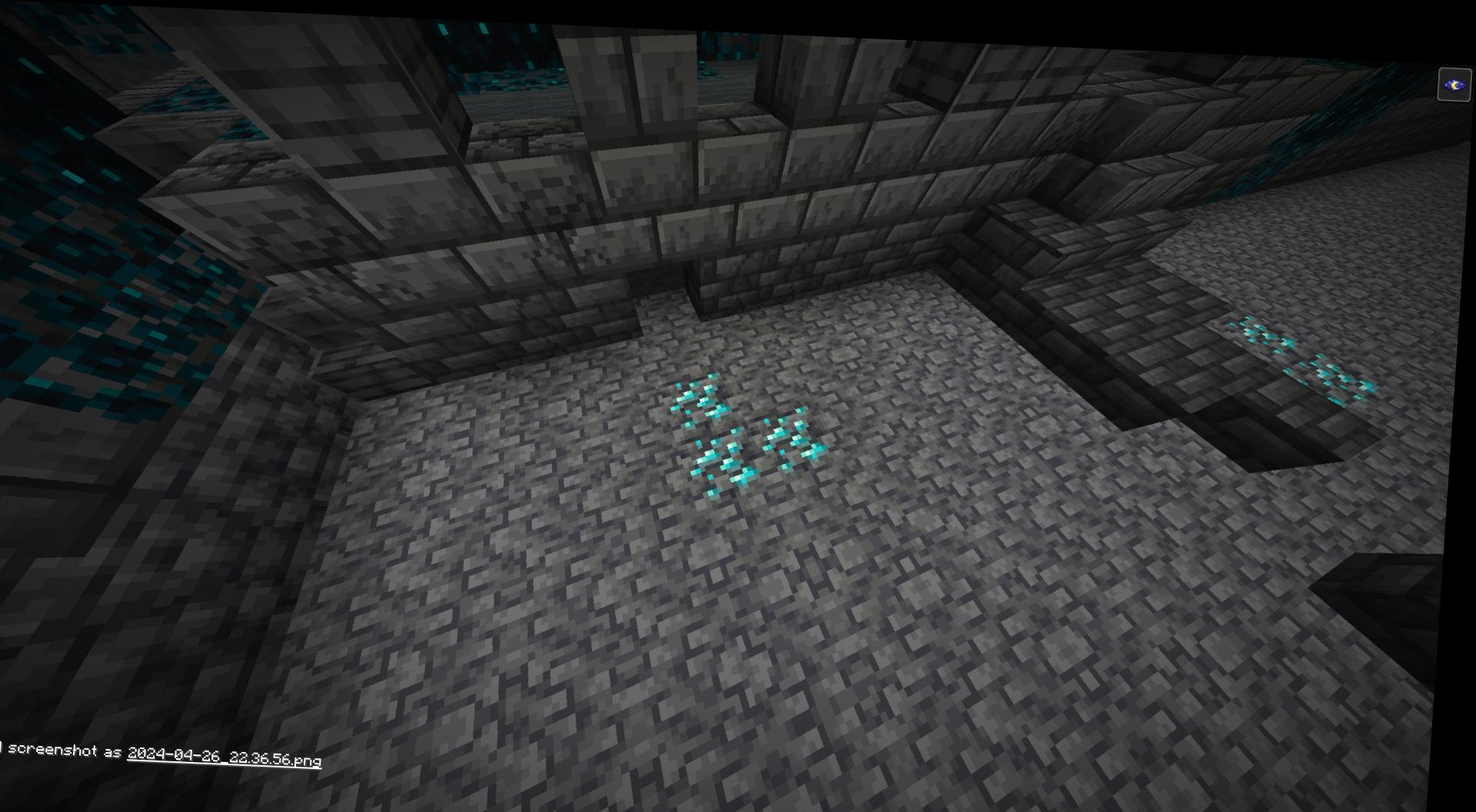diamond ore: (697, 417, 762, 498), (766, 397, 825, 473), (1305, 337, 1385, 392), (671, 364, 741, 424), (1231, 298, 1305, 342)
